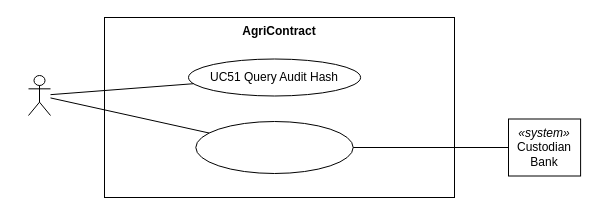
The diagram is 599 pixels wide and 215 high, and some of its shapes have lost their labels. Each missing label, with the centre of its shape:
"External Verifier" goes at pixel 39 95.
"UC52 Lock or Unlock Monetary Operations" goes at pixel 274 147.
